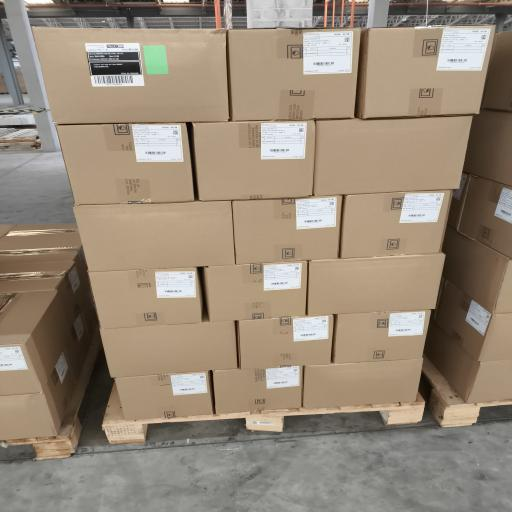pallet: (103, 384, 424, 443), (3, 329, 102, 460), (423, 355, 511, 427), (0, 128, 40, 150)
